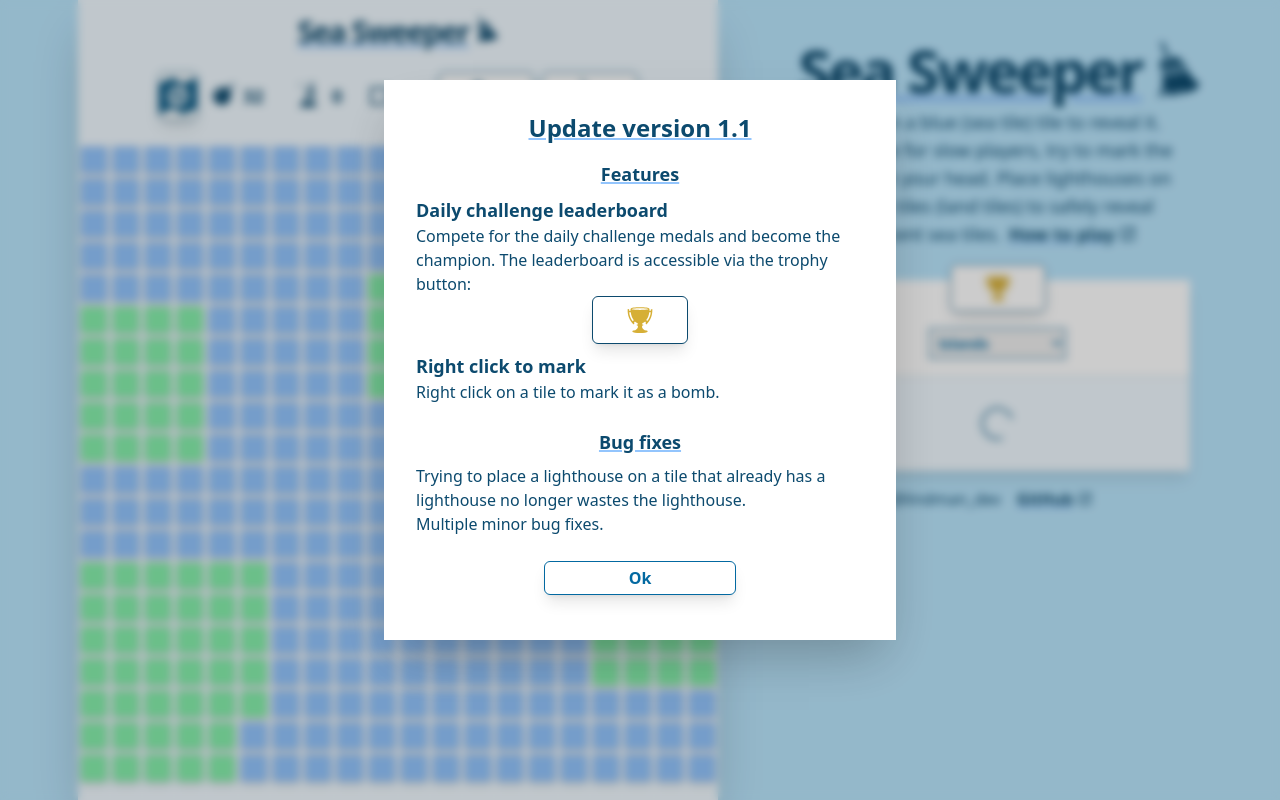
it: The game › placing lighthouse › can place 2 lighthouses
This screenshot has width=1280, height=800.
Click the button with id "close-modal-button" at [640, 578], box [544, 561, 736, 595]
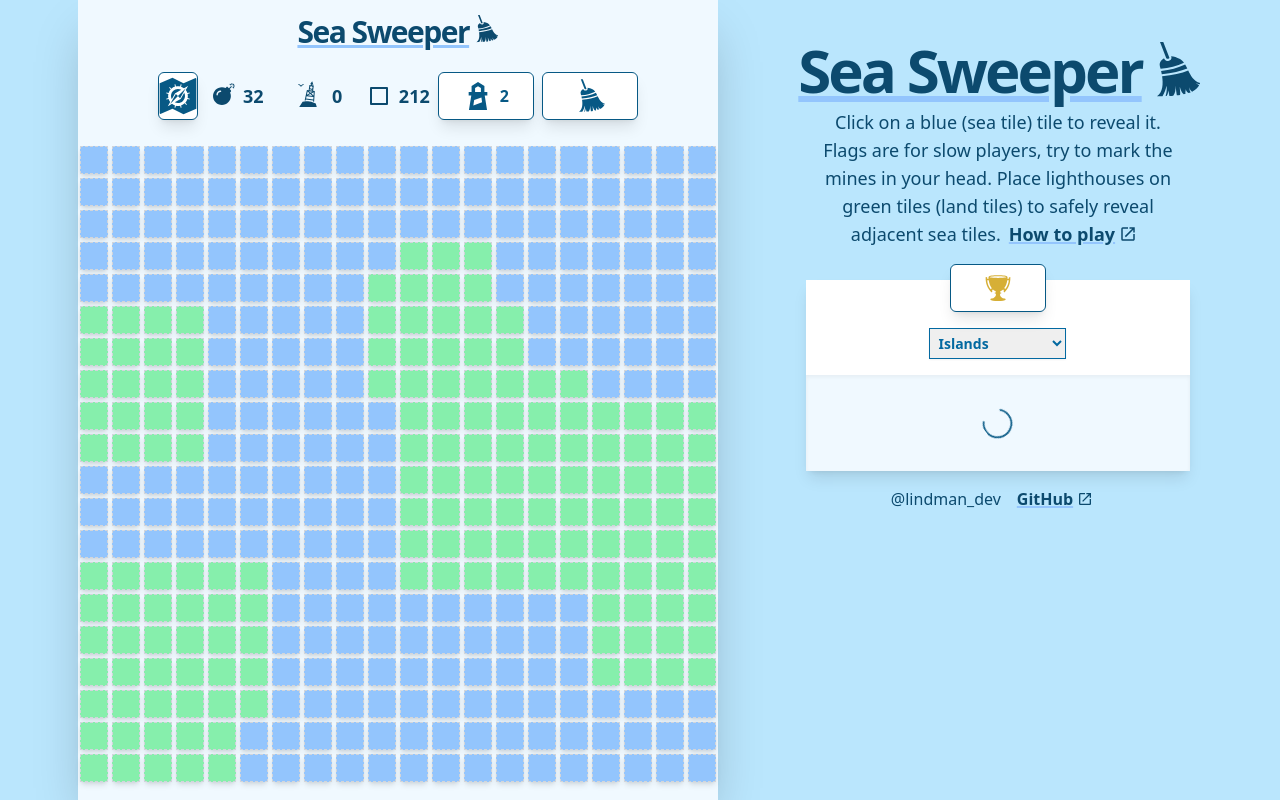
Click the button "2" at [486, 96], box [438, 72, 534, 120]
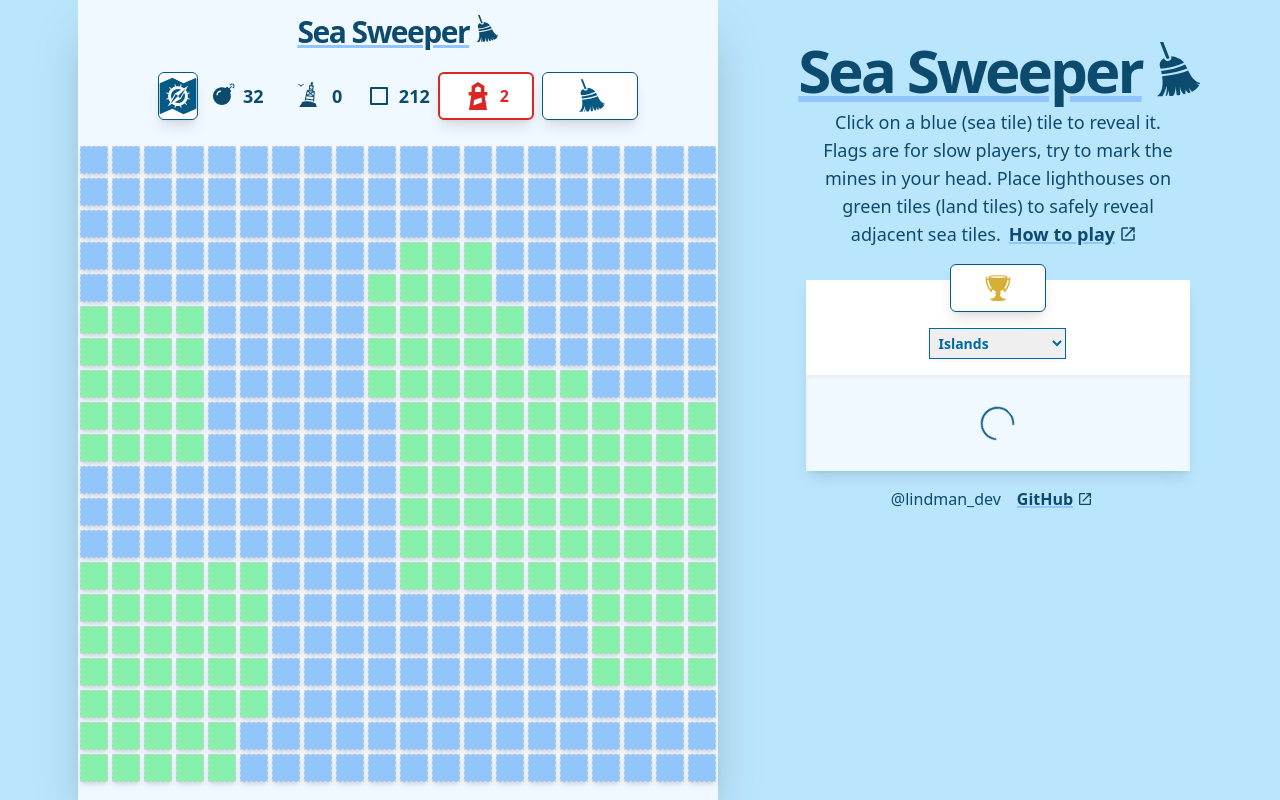
Click the button with id "tile-72" at [478, 256], box [462, 240, 494, 272]
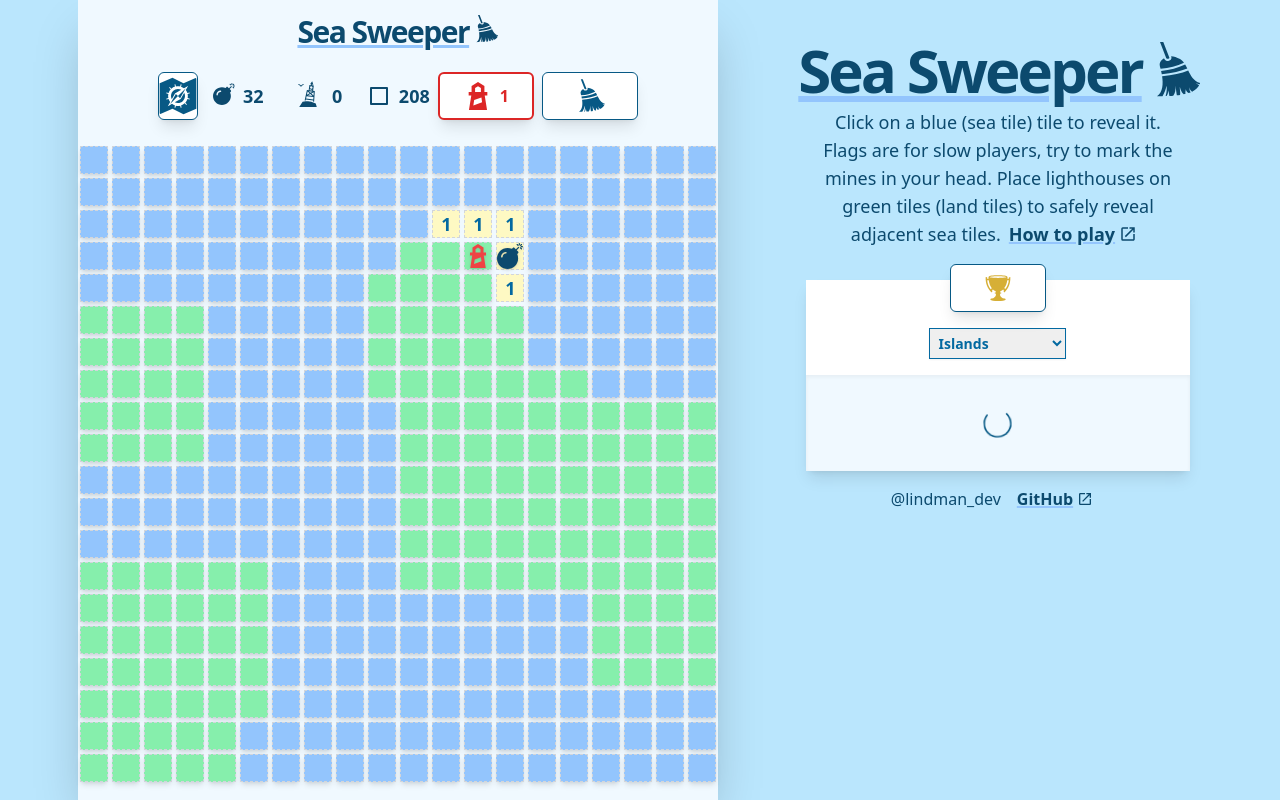
Result: the button "1" next to "208" is shown at [438, 72, 534, 120]
Result: the 2nd picture is shown at [466, 244, 490, 268]
Click the button with id "tile-265" at [254, 576], box [238, 560, 270, 592]
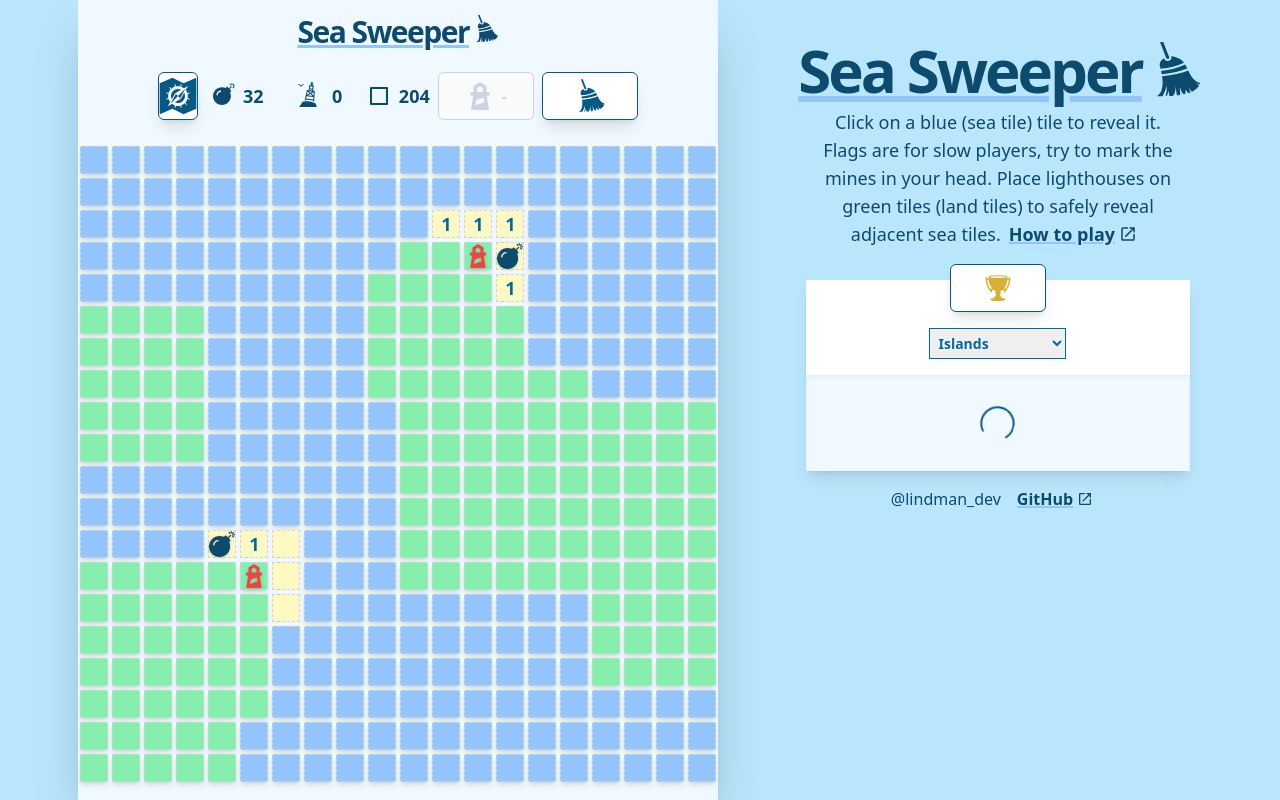
Expected: the text "-" is shown, [502, 84, 507, 108]
Result: the 3rd picture is shown at [242, 564, 266, 588]
